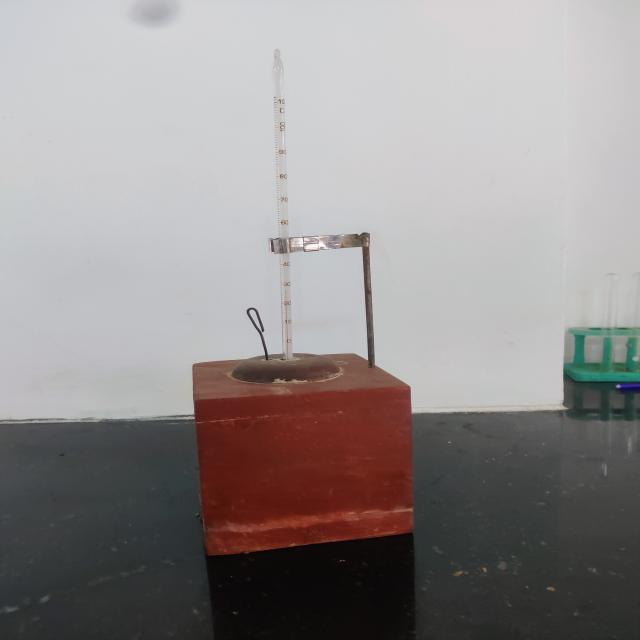Calorimeter: (163, 15, 471, 601)
